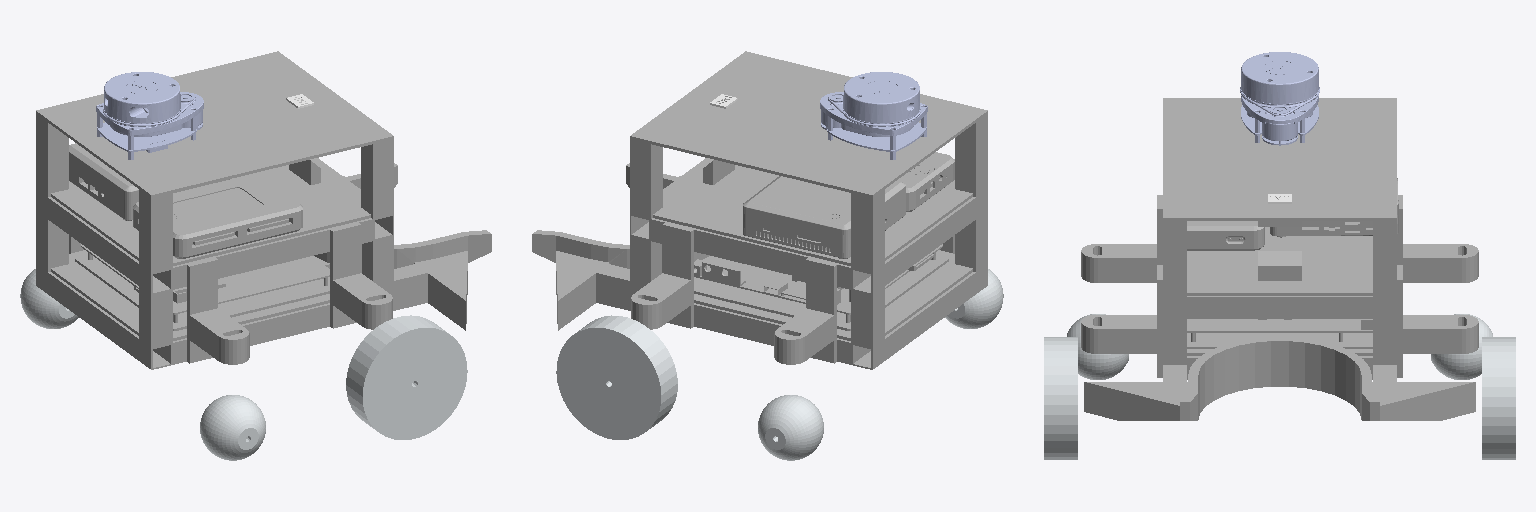
The robot description file, URDF, robot "lide":
<?xml version="1.0" encoding="utf-8"?>
<!-- This URDF was automatically created by SolidWorks to URDF Exporter! Originally created by [author] ([email redacted]) 
     Commit Version: 1.5.1-0-g916b5db  Build Version: 1.5.7152.31018
     For more information, please see http://wiki.ros.org/sw_urdf_exporter -->
<robot
  name="lide">
  <link
    name="base_link">
    <inertial>
      <origin
        xyz="-0.0875241348219496 0.0013274342507696 0.0474630684459225"
        rpy="0 0 0" />
      <mass
        value="3.15295004835025" />
      <inertia
        ixx="0.00732952370902921"
        ixy="-5.47577884715481E-07"
        ixz="-7.36488484962941E-06"
        iyy="0.00563296593577528"
        iyz="-3.00885497223968E-07"
        izz="0.0122350442649522" />
    </inertial>
    <visual>
      <origin
        xyz="0 0 0"
        rpy="0 0 0" />
      <geometry>
        <mesh
          filename="package://lide/meshes/base_link.STL" />
      </geometry>
      <material
        name="">
        <color
          rgba="0.752941176470588 0.752941176470588 0.752941176470588 1" />
      </material>
    </visual>
    <collision>
      <origin
        xyz="0 0 0"
        rpy="0 0 0" />
      <geometry>
        <mesh
          filename="package://lide/meshes/base_link.STL" />
      </geometry>
    </collision>
  </link>
  <link
    name="LFS">
    <inertial>
      <origin
        xyz="0.0455604268709419 0.00830943309140329 0.00297622851896683"
        rpy="0 0 0" />
      <mass
        value="0.0727928435161987" />
      <inertia
        ixx="2.20927876796313E-05"
        ixy="-1.64845302056347E-08"
        ixz="-1.5645477317521E-07"
        iyy="1.62632133784213E-05"
        iyz="2.96411876511626E-09"
        izz="1.80843397531752E-05" />
    </inertial>
    <visual>
      <origin
        xyz="0 0 0"
        rpy="0 0 0" />
      <geometry>
        <mesh
          filename="package://lide/meshes/LFS.STL" />
      </geometry>
      <material
        name="">
        <color
          rgba="0.752941176470588 0.752941176470588 0.752941176470588 1" />
      </material>
    </visual>
    <collision>
      <origin
        xyz="0 0 0"
        rpy="0 0 0" />
      <geometry>
        <mesh
          filename="package://lide/meshes/LFS.STL" />
      </geometry>
    </collision>
  </link>
  <joint
    name="LFS"
    type="fixed">
    <origin
      xyz="-0.0210436140506678 0.117153640036847 -0.036502747985397"
      rpy="1.5707963267949 0 1.5707963267949" />
    <parent
      link="base_link" />
    <child
      link="LFS" />
    <axis
      xyz="0 0 0" />
  </joint>
  <link
    name="LFW">
    <inertial>
      <origin
        xyz="0.015 0 2.60208521396521E-18"
        rpy="0 0 0" />
      <mass
        value="0.767080911081153" />
      <inertia
        ixx="0.00116426102407189"
        ixy="-1.25105048588129E-22"
        ixz="-1.83311841364852E-20"
        iyy="0.000639661580367031"
        iyz="-3.3881317890172E-21"
        izz="0.000639661580367032" />
    </inertial>
    <visual>
      <origin
        xyz="0 0 0"
        rpy="0 0 0" />
      <geometry>
        <mesh
          filename="package://lide/meshes/LFW.STL" />
      </geometry>
      <material
        name="">
        <color
          rgba="0.898039215686275 0.917647058823529 0.929411764705882 1" />
      </material>
    </visual>
    <collision>
      <origin
        xyz="0 0 0"
        rpy="0 0 0" />
      <geometry>
        <mesh
          filename="package://lide/meshes/LFW.STL" />
      </geometry>
    </collision>
  </link>
  <joint
    name="LFW"
    type="continuous">
    <origin
      xyz="0.063346 -0.006798 0.015044"
      rpy="-1.6264 0 0" />
    <parent
      link="LFS" />
    <child
      link="LFW" />
    <axis
      xyz="1 0 0" />
    <limit
      effort="3.1"
      velocity="7" />
  </joint>
  <link
    name="RFS">
    <inertial>
      <origin
        xyz="-0.0191828308457407 -0.00900932874707057 0.0520056318885905"
        rpy="0 0 0" />
      <mass
        value="0.0727928435161986" />
      <inertia
        ixx="2.20927876796313E-05"
        ixy="-1.64845302056318E-08"
        ixz="1.56454773175213E-07"
        iyy="1.62632133784213E-05"
        iyz="-2.96411876510635E-09"
        izz="1.80843397531752E-05" />
    </inertial>
    <visual>
      <origin
        xyz="0 0 0"
        rpy="0 0 0" />
      <geometry>
        <mesh
          filename="package://lide/meshes/RFS.STL" />
      </geometry>
      <material
        name="">
        <color
          rgba="0.752941176470588 0.752941176470588 0.752941176470588 1" />
      </material>
    </visual>
    <collision>
      <origin
        xyz="0 0 0"
        rpy="0 0 0" />
      <geometry>
        <mesh
          filename="package://lide/meshes/RFS.STL" />
      </geometry>
    </collision>
  </link>
  <joint
    name="RFS"
    type="fixed">
    <origin
      xyz="-0.070073 -0.14353 -0.019216"
      rpy="1.5708 0 1.5708" />
    <parent
      link="base_link" />
    <child
      link="RFS" />
    <axis
      xyz="0 0 0" />
  </joint>
  <link
    name="RFW">
    <inertial>
      <origin
        xyz="-0.015 1.0842021724855E-19 0"
        rpy="0 0 0" />
      <mass
        value="0.767080911081152" />
      <inertia
        ixx="0.00116426102407189"
        ixy="-5.95094015103783E-37"
        ixz="0"
        iyy="0.000639661580367031"
        iyz="-2.21718708608611E-36"
        izz="0.000639661580367031" />
    </inertial>
    <visual>
      <origin
        xyz="0 0 0"
        rpy="0 0 0" />
      <geometry>
        <mesh
          filename="package://lide/meshes/RFW.STL" />
      </geometry>
      <material
        name="">
        <color
          rgba="0.898039215686275 0.917647058823529 0.929411764705882 1" />
      </material>
    </visual>
    <collision>
      <origin
        xyz="0 0 0"
        rpy="0 0 0" />
      <geometry>
        <mesh
          filename="package://lide/meshes/RFW.STL" />
      </geometry>
    </collision>
  </link>
  <joint
    name="RFW"
    type="continuous">
    <origin
      xyz="-0.036969 -0.024084 0.064073"
      rpy="0 0 0" />
    <parent
      link="RFS" />
    <child
      link="RFW" />
    <axis
      xyz="1 0 0" />
    <limit
      effort="3.1"
      velocity="7" />
  </joint>
  <link
    name="LBS">
    <inertial>
      <origin
        xyz="-4.79882522608222E-10 -0.023473389822872 -1.16815018769145E-09"
        rpy="0 0 0" />
      <mass
        value="0.0835358720814328" />
      <inertia
        ixx="7.729680608963E-05"
        ixy="-8.60478108559215E-13"
        ixz="1.4058669893697E-13"
        iyy="5.13820931926884E-05"
        iyz="-5.06559895917459E-12"
        izz="7.73952626484253E-05" />
    </inertial>
    <visual>
      <origin
        xyz="0 0 0"
        rpy="0 0 0" />
      <geometry>
        <mesh
          filename="package://lide/meshes/LBS.STL" />
      </geometry>
      <material
        name="">
        <color
          rgba="0.898039215686275 0.917647058823529 0.929411764705882 1" />
      </material>
    </visual>
    <collision>
      <origin
        xyz="0 0 0"
        rpy="0 0 0" />
      <geometry>
        <mesh
          filename="package://lide/meshes/LBS.STL" />
      </geometry>
    </collision>
  </link>
  <joint
    name="LBS"
    type="fixed">
    <origin
      xyz="-0.169 0.16275 -0.012562"
      rpy="1.5708 0 1.5708" />
    <parent
      link="base_link" />
    <child
      link="LBS" />
    <axis
      xyz="0 0 0" />
  </joint>
  <link
    name="LBW">
    <inertial>
      <origin
        xyz="0 -1.22124532708767E-15 0"
        rpy="0 0 0" />
      <mass
        value="0.299097213540614" />
      <inertia
        ixx="0.000107128427988291"
        ixy="-7.7154576721694E-22"
        ixz="-6.56176679301773E-22"
        iyy="0.000109833959413418"
        iyz="-8.63231614238912E-20"
        izz="0.000107128427988291" />
    </inertial>
    <visual>
      <origin
        xyz="0 0 0"
        rpy="0 0 0" />
      <geometry>
        <mesh
          filename="package://lide/meshes/LBW.STL" />
      </geometry>
      <material
        name="">
        <color
          rgba="0.898039215686275 0.917647058823529 0.929411764705882 1" />
      </material>
    </visual>
    <collision>
      <origin
        xyz="0 0 0"
        rpy="0 0 0" />
      <geometry>
        <mesh
          filename="package://lide/meshes/LBW.STL" />
      </geometry>
    </collision>
  </link>
  <joint
    name="LBW"
    type="revolute">
    <origin
      xyz="0 -0.055738 0"
      rpy="3.1416 0 1.5708" />
    <parent
      link="LBS" />
    <child
      link="LBW" />
    <axis
      xyz="0 1 0" />
    <limit
      lower="0"
      upper="0"
      effort="0"
      velocity="0" />
    <dynamics
      damping="0.001" />
  </joint>
  <link
    name="RBS">
    <inertial>
      <origin
        xyz="-4.79882439341495E-10 -0.023473389822872 -1.16815018769145E-09"
        rpy="0 0 0" />
      <mass
        value="0.0835358720814331" />
      <inertia
        ixx="7.72968060896302E-05"
        ixy="-8.60477997828768E-13"
        ixz="1.40586682345435E-13"
        iyy="5.13820931926884E-05"
        iyz="-5.06559895258427E-12"
        izz="7.73952626484255E-05" />
    </inertial>
    <visual>
      <origin
        xyz="0 0 0"
        rpy="0 0 0" />
      <geometry>
        <mesh
          filename="package://lide/meshes/RBS.STL" />
      </geometry>
      <material
        name="">
        <color
          rgba="0.898039215686275 0.917647058823529 0.929411764705882 1" />
      </material>
    </visual>
    <collision>
      <origin
        xyz="0 0 0"
        rpy="0 0 0" />
      <geometry>
        <mesh
          filename="package://lide/meshes/RBS.STL" />
      </geometry>
    </collision>
  </link>
  <joint
    name="RBS"
    type="fixed">
    <origin
      xyz="-0.169 -0.16275 -0.012562"
      rpy="1.5708 0 1.5708" />
    <parent
      link="base_link" />
    <child
      link="RBS" />
    <axis
      xyz="0 0 0" />
  </joint>
  <link
    name="RBW">
    <inertial>
      <origin
        xyz="0 -5.55111512312578E-16 0"
        rpy="0 0 0" />
      <mass
        value="0.299097213540614" />
      <inertia
        ixx="0.000107128427988291"
        ixy="2.95715746323546E-22"
        ixz="-7.83770174006311E-22"
        iyy="0.000109833959413418"
        iyz="-8.63398373850403E-20"
        izz="0.000107128427988291" />
    </inertial>
    <visual>
      <origin
        xyz="0 0 0"
        rpy="0 0 0" />
      <geometry>
        <mesh
          filename="package://lide/meshes/RBW.STL" />
      </geometry>
      <material
        name="">
        <color
          rgba="0.898039215686275 0.917647058823529 0.929411764705882 1" />
      </material>
    </visual>
    <collision>
      <origin
        xyz="0 0 0"
        rpy="0 0 0" />
      <geometry>
        <mesh
          filename="package://lide/meshes/RBW.STL" />
      </geometry>
    </collision>
  </link>
  <joint
    name="RBW"
    type="revolute">
    <origin
      xyz="0 -0.055738 0"
      rpy="0 0 -1.5708" />
    <parent
      link="RBS" />
    <child
      link="RBW" />
    <axis
      xyz="0 1 0" />
    <limit
      lower="0"
      upper="0"
      effort="0"
      velocity="0" />
    <dynamics
      damping="0.001" />
  </joint>
  <link
    name="fcam">
    <inertial>
      <origin
        xyz="-0.011554 -2.6443E-06 0.0012903"
        rpy="0 0 0" />
      <mass
        value="0.043612" />
      <inertia
        ixx="2.3571E-05"
        ixy="-1.0184E-09"
        ixz="2.1759E-08"
        iyy="4.2948E-06"
        iyz="-8.8502E-10"
        izz="2.2106E-05" />
    </inertial>
    <visual>
      <origin
        xyz="0 0 0"
        rpy="0 0 0" />
      <geometry>
        <mesh
          filename="package://lide/meshes/fcam.STL" />
      </geometry>
      <material
        name="">
        <color
          rgba="0.79216 0.81961 0.93333 1" />
      </material>
    </visual>
    <collision>
      <origin
        xyz="0 0 0"
        rpy="0 0 0" />
      <geometry>
        <mesh
          filename="package://lide/meshes/fcam.STL" />
      </geometry>
    </collision>
  </link>
  <joint
    name="fcam"
    type="fixed">
    <origin
      xyz="0.029118 0 0.12982"
      rpy="0 0.2618 0" />
    <parent
      link="base_link" />
    <child
      link="fcam" />
    <axis
      xyz="0 0 0" />
  </joint>
  <link
    name="bcam">
    <inertial>
      <origin
        xyz="-0.0201034645299101 -2.64354903262154E-06 -0.007258695056636"
        rpy="0 0 0" />
      <mass
        value="0.0436119949785284" />
      <inertia
        ixx="2.357070560996E-05"
        ixy="-1.01834758005768E-09"
        ixz="2.17579332532706E-08"
        iyy="4.29479078276664E-06"
        iyz="-8.85484503941896E-10"
        izz="2.21058144654637E-05" />
    </inertial>
    <visual>
      <origin
        xyz="0 0 0"
        rpy="0 0 0" />
      <geometry>
        <mesh
          filename="package://lide/meshes/bcam.STL" />
      </geometry>
      <material
        name="">
        <color
          rgba="0.792156862745098 0.819607843137255 0.933333333333333 1" />
      </material>
    </visual>
    <collision>
      <origin
        xyz="0 0 0"
        rpy="0 0 0" />
      <geometry>
        <mesh
          filename="package://lide/meshes/bcam.STL" />
      </geometry>
    </collision>
  </link>
  <joint
    name="bcam"
    type="fixed">
    <origin
      xyz="0.033 0 0.091232"
      rpy="0 0.7854 0" />
    <parent
      link="base_link" />
    <child
      link="bcam" />
    <axis
      xyz="0 0 0" />
  </joint>
  <link
    name="Lidar">
    <inertial>
      <origin
        xyz="0.013523 0.00046196 -0.028765"
        rpy="0 0 0" />
      <mass
        value="0.073085" />
      <inertia
        ixx="1.9581E-05"
        ixy="-1.0393E-07"
        ixz="-4.2839E-07"
        iyy="2.4125E-05"
        iyz="9.4271E-09"
        izz="4.1418E-05" />
    </inertial>
    <visual>
      <origin
        xyz="0 0 0"
        rpy="0 0 0" />
      <geometry>
        <mesh
          filename="package://lide/meshes/Lidar.STL" />
      </geometry>
      <material
        name="">
        <color
          rgba="0.79216 0.81961 0.93333 1" />
      </material>
    </visual>
    <collision>
      <origin
        xyz="0 0 0"
        rpy="0 0 0" />
      <geometry>
        <mesh
          filename="package://lide/meshes/Lidar.STL" />
      </geometry>
    </collision>
  </link>
  <joint
    name="Lidar"
    type="fixed">
    <origin
      xyz="-0.17158 -0.00099405 0.2065"
      rpy="0 0 0" />
    <parent
      link="base_link" />
    <child
      link="Lidar" />
    <axis
      xyz="0 0 0" />
  </joint>
  <link
    name="imu_link">
    <inertial>
      <origin
        xyz="0 0 0"
        rpy="0 0 0" />
      <mass
        value="0" />
      <inertia
        ixx="0"
        ixy="0"
        ixz="0"
        iyy="0"
        iyz="0"
        izz="0" />
    </inertial>
    <visual>
      <origin
        xyz="0 0 0"
        rpy="0 0 0" />
      <geometry>
        <mesh
          filename="package://lide/meshes/imu_link.STL" />
      </geometry>
      <material
        name="">
        <color
          rgba="1 1 1 1" />
      </material>
    </visual>
    <collision>
      <origin
        xyz="0 0 0"
        rpy="0 0 0" />
      <geometry>
        <mesh
          filename="package://lide/meshes/imu_link.STL" />
      </geometry>
    </collision>
  </link>
  <joint
    name="imu_link"
    type="fixed">
    <origin
      xyz="-0.007625 0 0.155"
      rpy="0 0 0" />
    <parent
      link="base_link" />
    <child
      link="imu_link" />
    <axis
      xyz="0 0 0" />
  </joint>
</robot>

--- What the picture shows (computed from the rendered views, not written in the file) ---
The picture shows the robot from 3 angles, left to right: view 1: azimuth 30°, elevation 25°; view 2: azimuth 150°, elevation 25°; view 3: azimuth 270°, elevation 25°; orthographic projection.
Robot: lide — 13 links, 12 joints (2 revolute, 2 continuous, 8 fixed); root link base_link; default pose: every joint at zero.
Visible links, largest first — view 1: base_link, RFW, Lidar, RBW, LBW; view 2: base_link, LFW, Lidar, LBW, RBW; view 3: base_link, Lidar, LFW, RFW, LBW, RBW.
Boxes of the visible links, x1,y1,x2,y2 form: base_link: (36, 51, 491, 369); RFW: (346, 315, 467, 439); Lidar: (96, 72, 203, 159); RBW: (200, 395, 265, 460); LBW: (20, 269, 78, 328); base_link: (532, 51, 987, 369); LFW: (556, 315, 677, 439); Lidar: (820, 72, 927, 159); LBW: (758, 395, 823, 460); RBW: (945, 269, 1003, 328); base_link: (1081, 98, 1478, 420); Lidar: (1240, 52, 1319, 145); LFW: (1482, 337, 1515, 459); RFW: (1044, 337, 1077, 459); LBW: (1431, 314, 1492, 379); RBW: (1067, 314, 1128, 379).
Size in the robot's own frame: 0.365 by 0.421 by 0.3047 metres.
7 mesh visuals loaded from 13 distinct referenced files (7 binary STL); not drawn: 6 (reference not matched to a file when rendering).